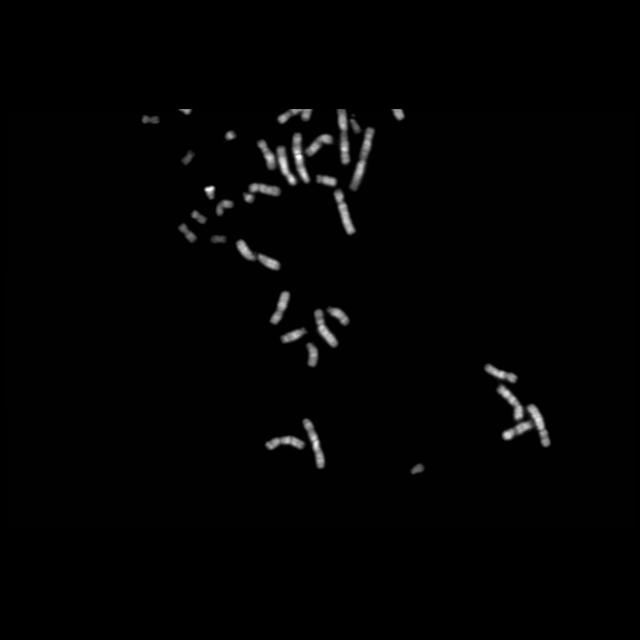chromosome: (350, 126, 374, 190), (238, 240, 280, 270), (302, 419, 324, 469), (334, 188, 356, 236), (496, 385, 524, 421), (528, 404, 550, 448), (292, 132, 310, 184), (314, 309, 338, 347), (276, 146, 296, 186), (270, 290, 290, 324), (484, 363, 518, 383), (502, 420, 536, 440), (338, 109, 350, 165), (266, 435, 304, 451), (306, 134, 332, 156), (278, 108, 312, 124), (258, 140, 276, 170), (326, 306, 349, 326), (281, 327, 307, 343), (248, 184, 280, 196), (177, 224, 197, 242), (217, 200, 233, 217), (307, 342, 318, 366), (316, 174, 336, 186), (191, 210, 207, 224), (140, 115, 160, 125), (211, 234, 227, 246), (204, 186, 216, 200), (182, 150, 194, 164), (350, 118, 360, 132), (411, 464, 424, 474), (242, 192, 254, 202), (392, 110, 404, 120), (225, 130, 237, 140)
